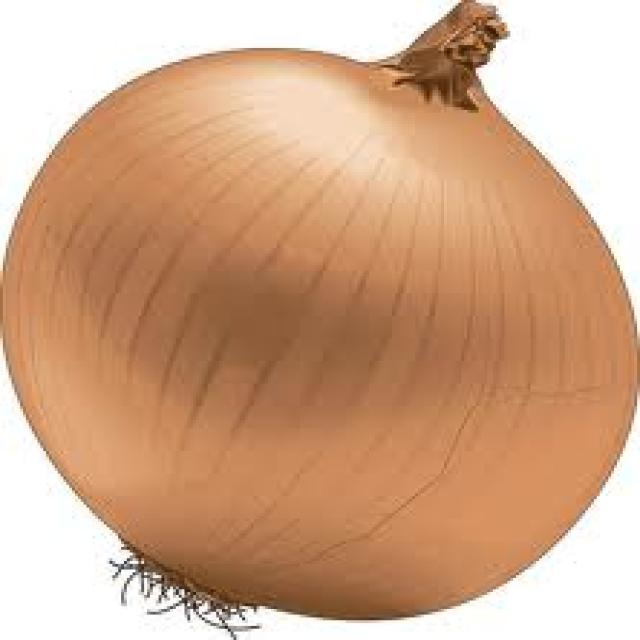onion: (0, 14, 637, 637)
